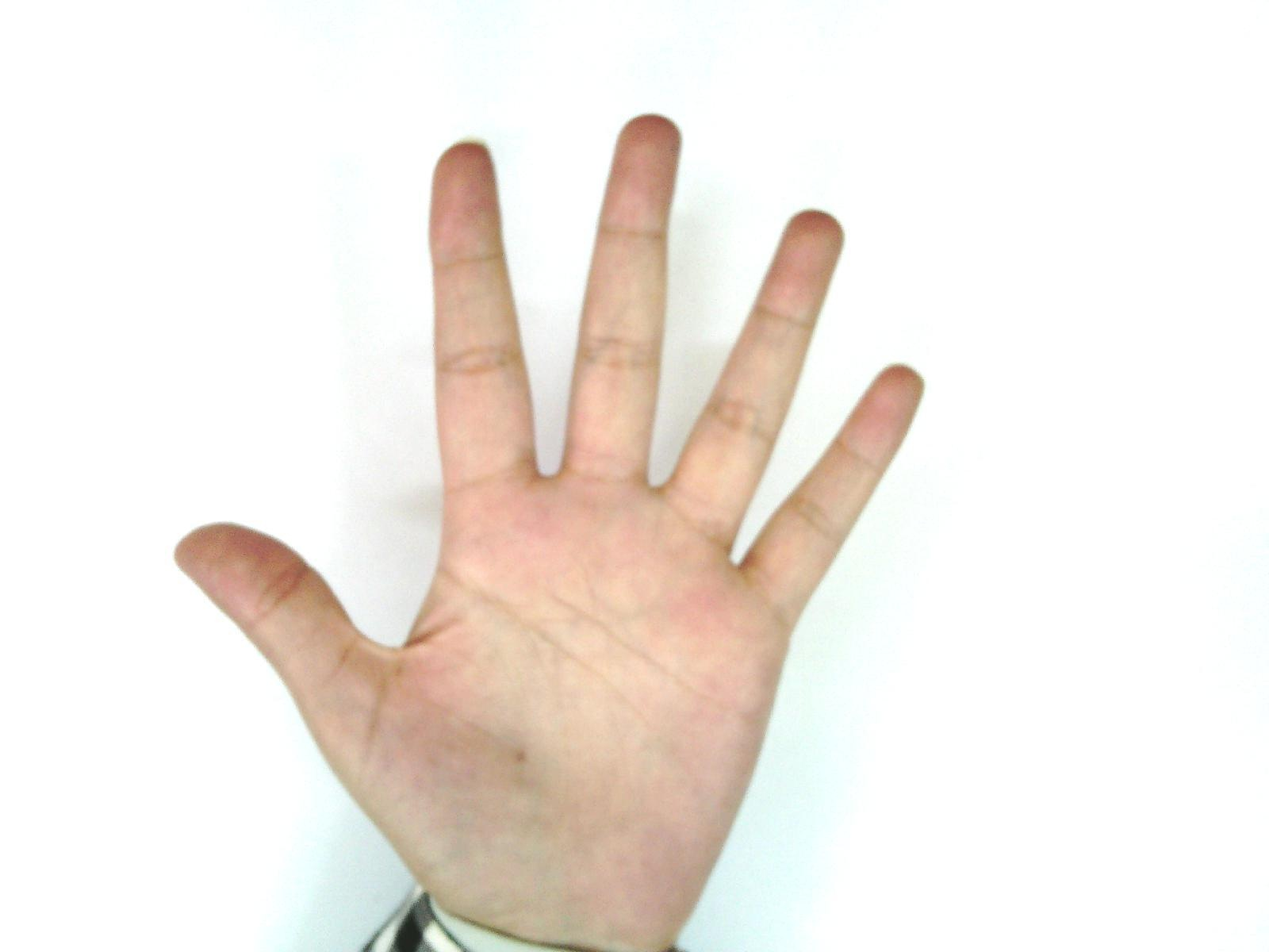open_palm: (172, 113, 928, 950)
